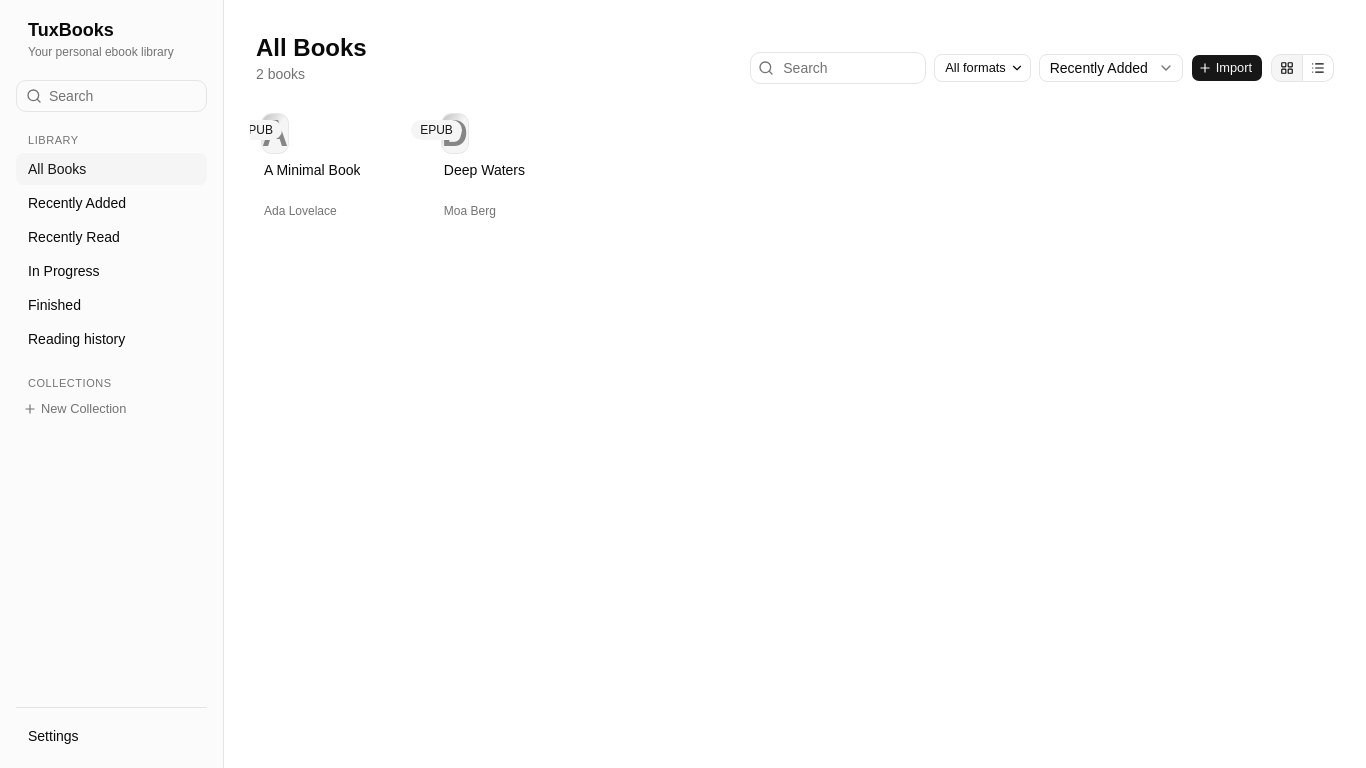
Test: GlobalSearch › opens the picked book's detail view and clears the query
Type "waters" into the dropdown with test id "global-search". click: (112, 96)
box: [16,80,207,112]
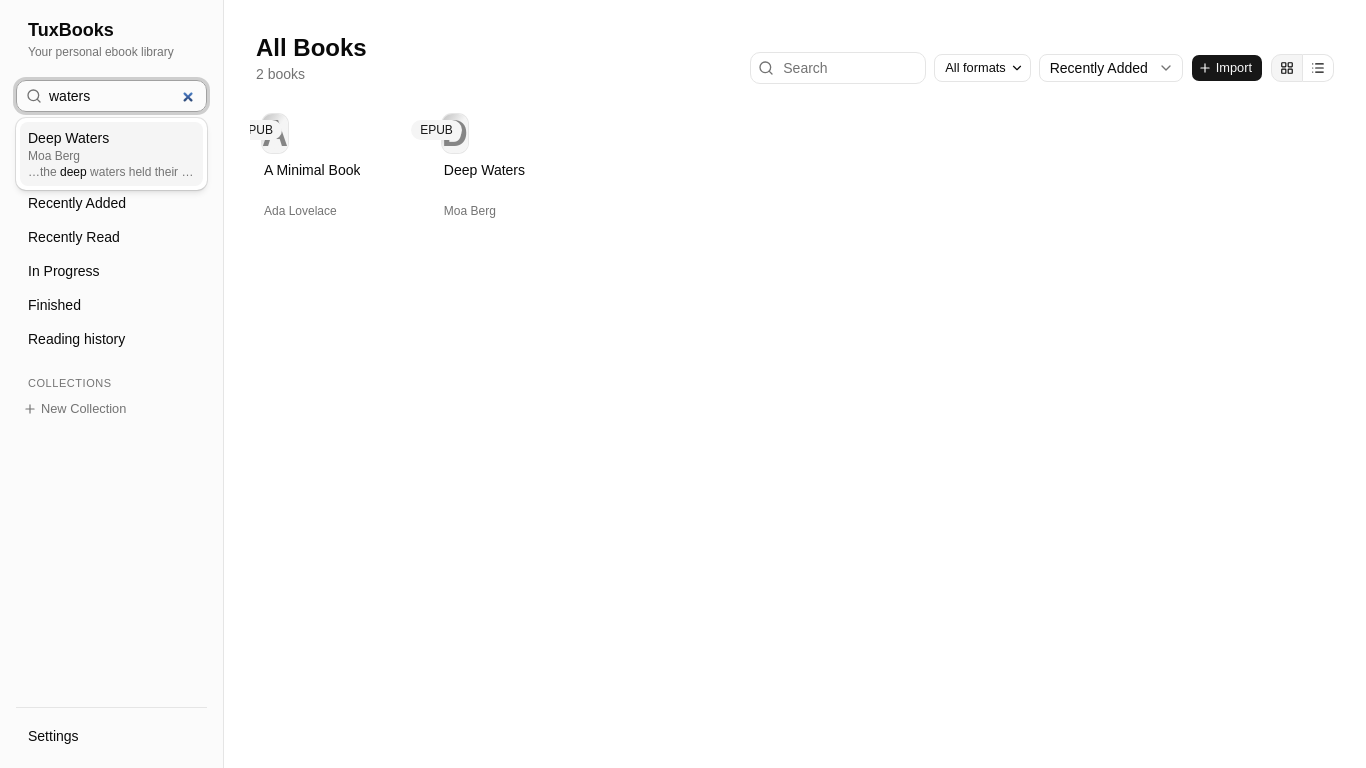
Click the option "Deep Waters Moa Berg …the deep waters held their breath…". click: (112, 154)
box: [20,122,203,186]
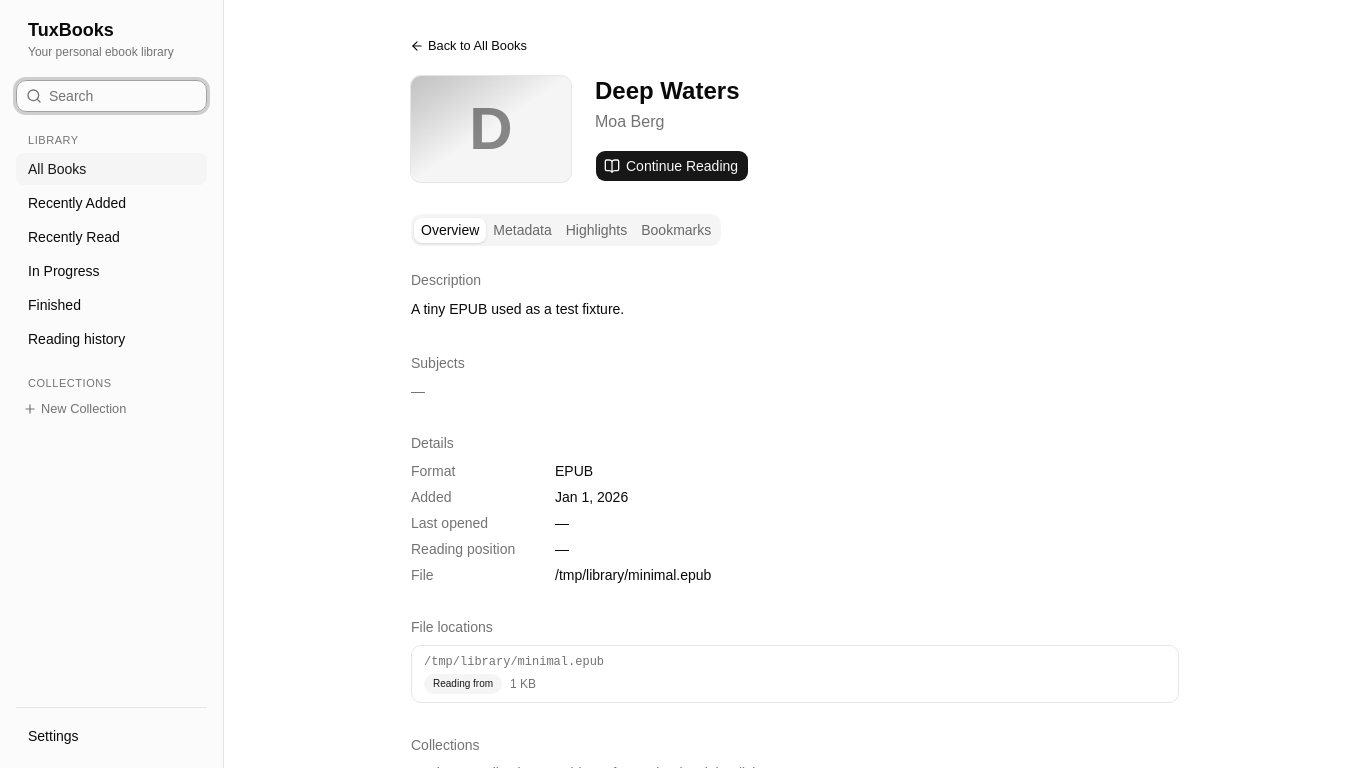
Now the element with test id "book-detail" is shown, box [411,32,1179,767]
Now the dropdown with test id "global-search" is empty, box [16,80,207,112]
Now the option is gone
